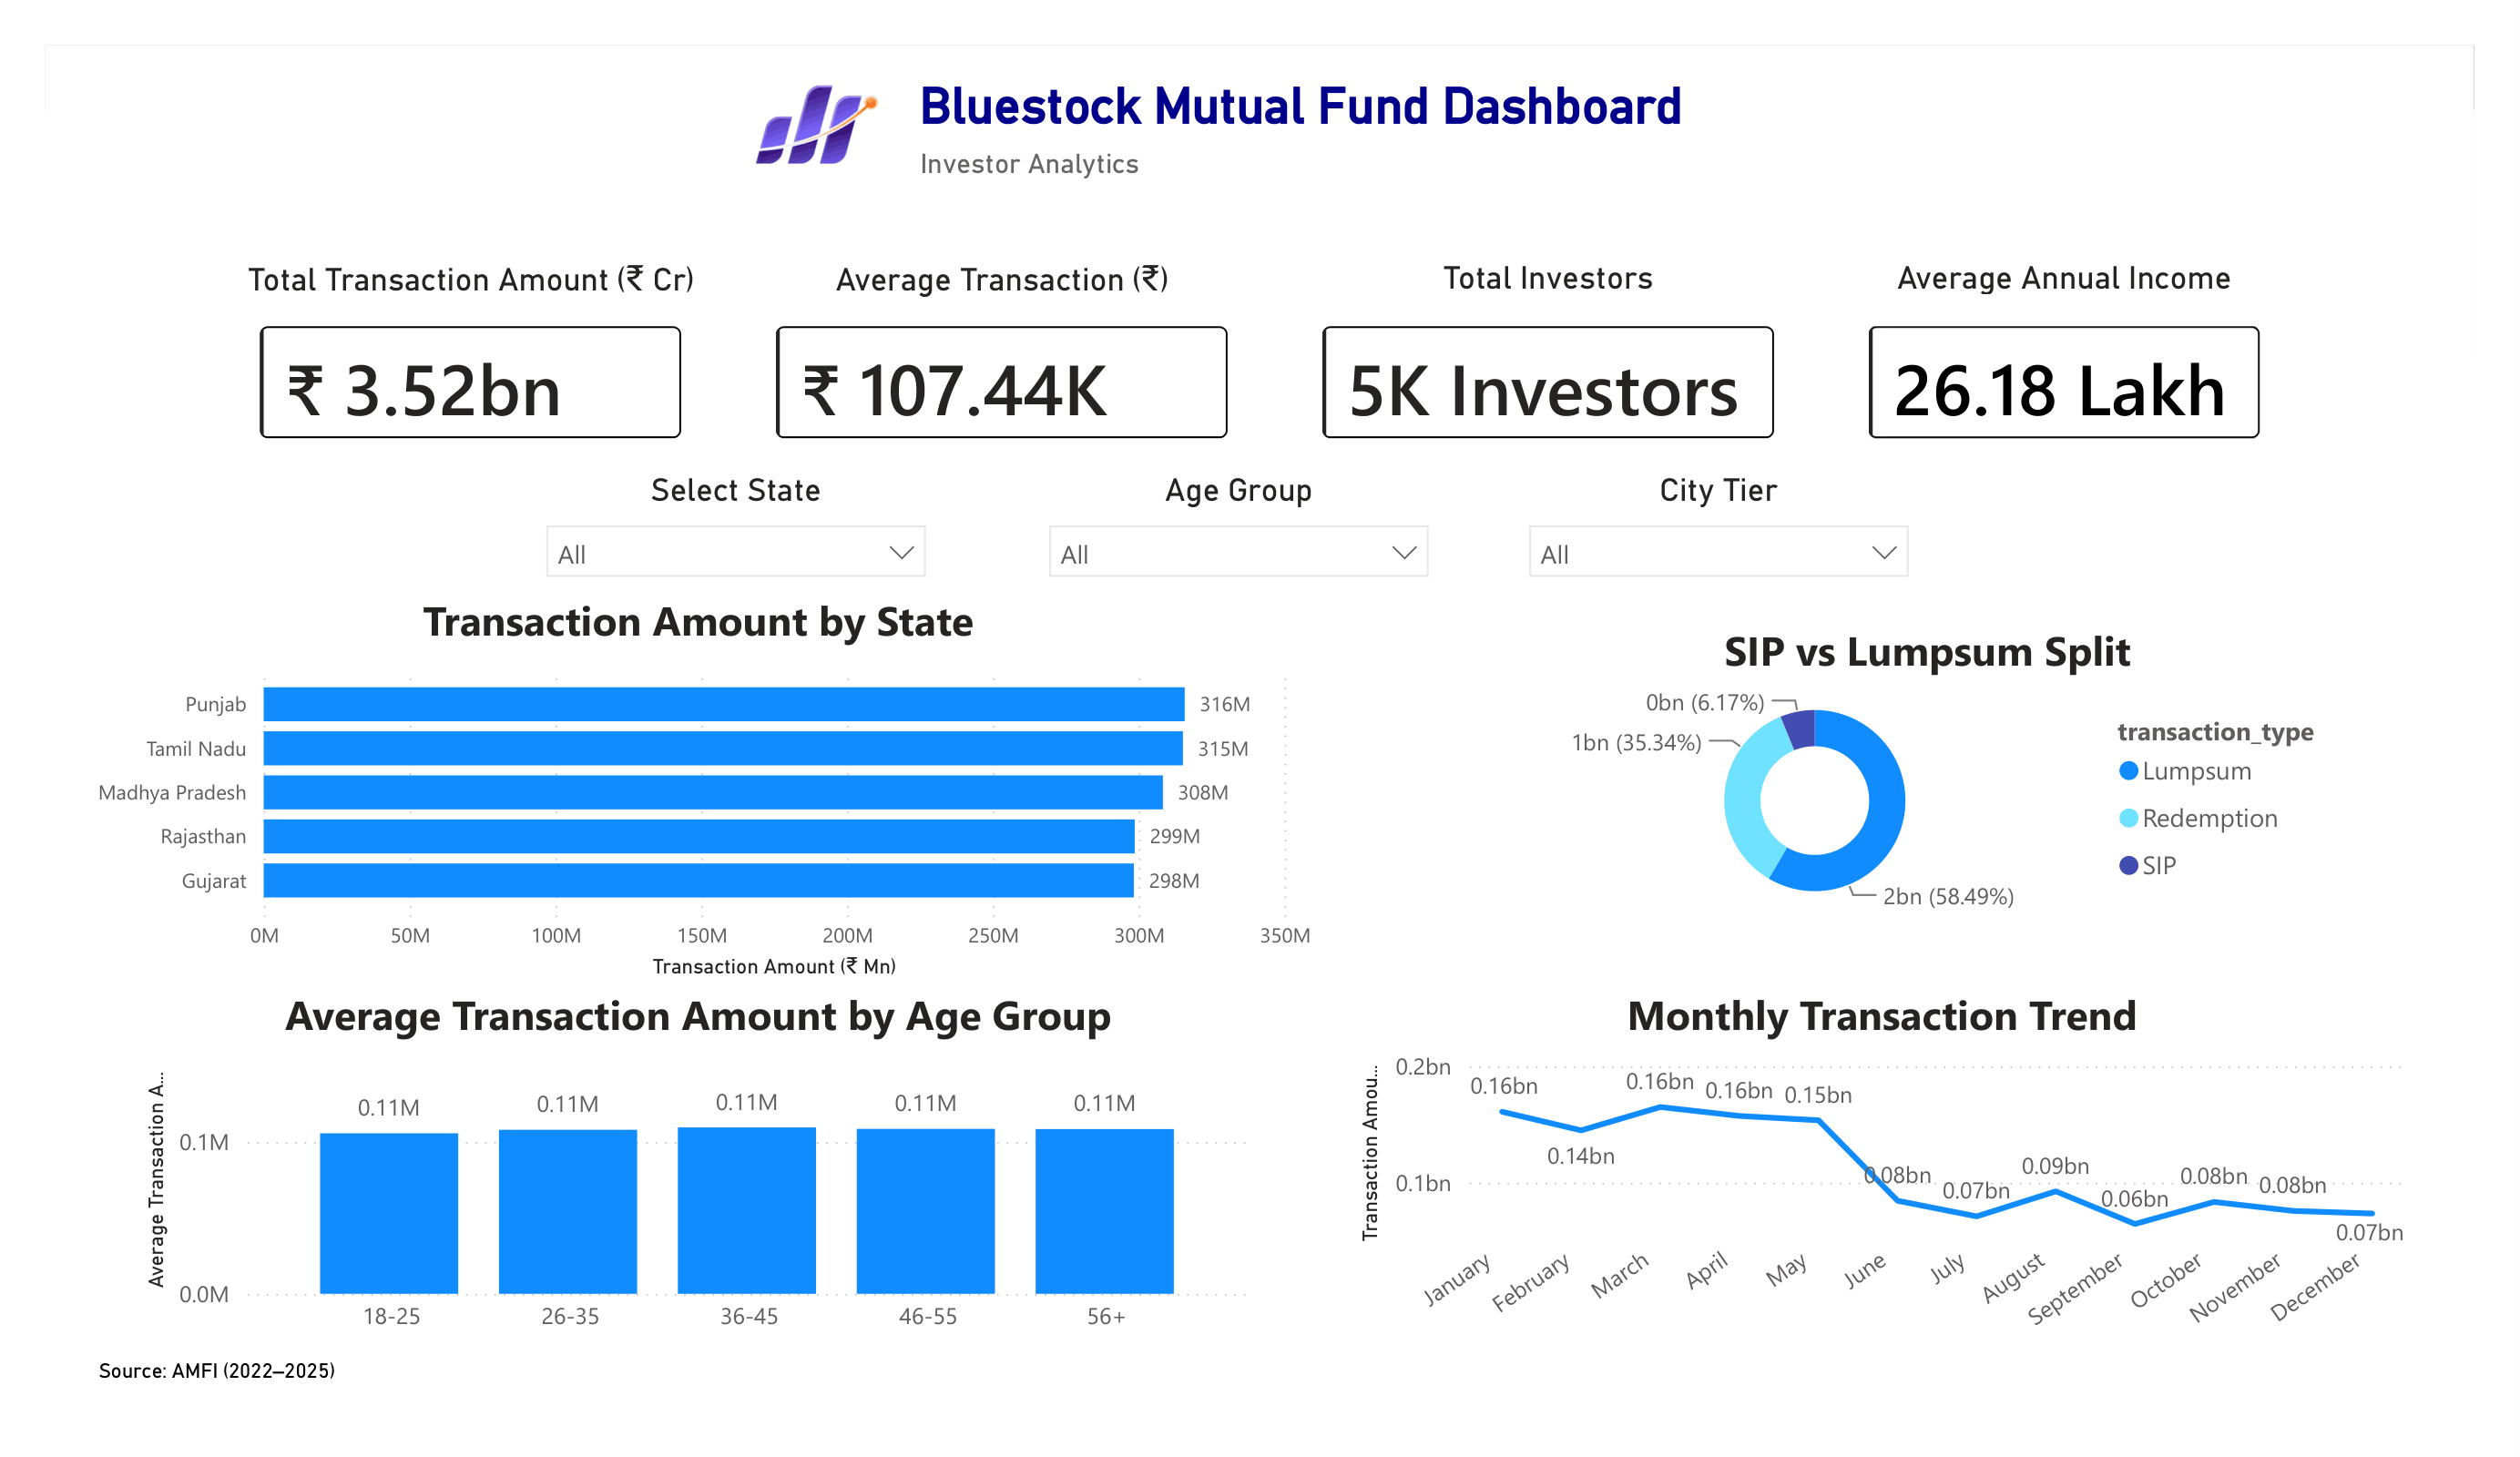

The dashboard page shown, as its layout file describes it:
{"tool":"powerbi","page":{"name":"Investor Analytics","canvas":[1280,720],"ordinal":2},"visuals":[{"type":"textbox","title":"Bluestock Mutual Fund Dashboard","box":[455.6,15.6,420,40],"z":0},{"type":"cardVisual","title":"Total Transaction Amount (₹ Cr)","fields":{"Data":["clean_transactions.Total Transaction Amount"]},"box":[96,112,256,112],"z":1000},{"type":"cardVisual","title":"Average Transaction (₹)","fields":{"Data":["clean_transactions.Average Transaction Amount"]},"box":[368,112,272,112],"z":2000},{"type":"cardVisual","title":"Total Investors","fields":{"Data":["clean_transactions.Total Investors"]},"box":[656,112,272,112],"z":3000},{"type":"cardVisual","title":"Average Annual Income","fields":{"Data":["clean_transactions.Average Annual Income"]},"box":[944,112,240,112],"z":4000},{"type":"lineChart","title":"Monthly Transaction Trend","fields":{"Category":["clean_transactions.transaction_date.Variation.Date Hierarchy.Month"],"Y":["clean_transactions.Total Transaction Amount"]},"box":[688,496,560,192],"z":5000},{"type":"textbox","title":"Investor Analytics","box":[455.6,54.4,250,20],"z":6000},{"type":"slicer","title":"Select State","fields":{"Values":["clean_transactions.state"]},"box":[254.4,224.3,220,81.1],"z":7000},{"type":"slicer","title":"Age Group","fields":{"Values":["clean_transactions.age_group"]},"box":[518.9,224.3,220,81.1],"z":8000},{"type":"image","box":[348.9,0,114.4,84.4],"z":9000},{"type":"textbox","title":"Source: AMFI (2022–2025)","box":[23.3,692.2,250,20],"z":10000},{"type":"slicer","title":"City Tier","fields":{"Values":["clean_transactions.city_tier"]},"box":[772.2,224.3,220,81.1],"z":11000},{"type":"clusteredBarChart","title":"Transaction Amount by State","fields":{"Y":["clean_transactions.Total Transaction Amount"],"Category":["clean_transactions.state"]},"box":[16,288,656,208],"z":12000},{"type":"donutChart","title":"SIP vs Lumpsum Split","fields":{"Category":["clean_transactions.transaction_type"],"Y":["clean_transactions.Total Transaction Amount"]},"box":[768,304,448,160],"z":13000},{"type":"clusteredColumnChart","title":"Average Transaction Amount by Age Group","fields":{"Category":["clean_transactions.age_group"],"Y":["clean_transactions.Average Transaction Amount"]},"box":[48,496,592,192],"z":14000}]}

Visuals, with their boxes on the page's 1280x720 design canvas (x1, y1, x2, y2). These are canvas units, not pixel positions in the 2520x1457 screenshot, which may show the page scaled, cropped or inside an application window:
"Bluestock Mutual Fund Dashboard" textbox: (456, 16, 876, 56)
"Total Transaction Amount (₹ Cr)" cardVisual: (96, 112, 352, 224)
"Average Transaction (₹)" cardVisual: (368, 112, 640, 224)
"Total Investors" cardVisual: (656, 112, 928, 224)
"Average Annual Income" cardVisual: (944, 112, 1184, 224)
"Monthly Transaction Trend" lineChart: (688, 496, 1248, 688)
"Investor Analytics" textbox: (456, 54, 706, 74)
"Select State" slicer: (254, 224, 474, 305)
"Age Group" slicer: (519, 224, 739, 305)
image: (349, 0, 463, 84)
"Source: AMFI (2022–2025)" textbox: (23, 692, 273, 712)
"City Tier" slicer: (772, 224, 992, 305)
"Transaction Amount by State" clusteredBarChart: (16, 288, 672, 496)
"SIP vs Lumpsum Split" donutChart: (768, 304, 1216, 464)
"Average Transaction Amount by Age Group" clusteredColumnChart: (48, 496, 640, 688)
